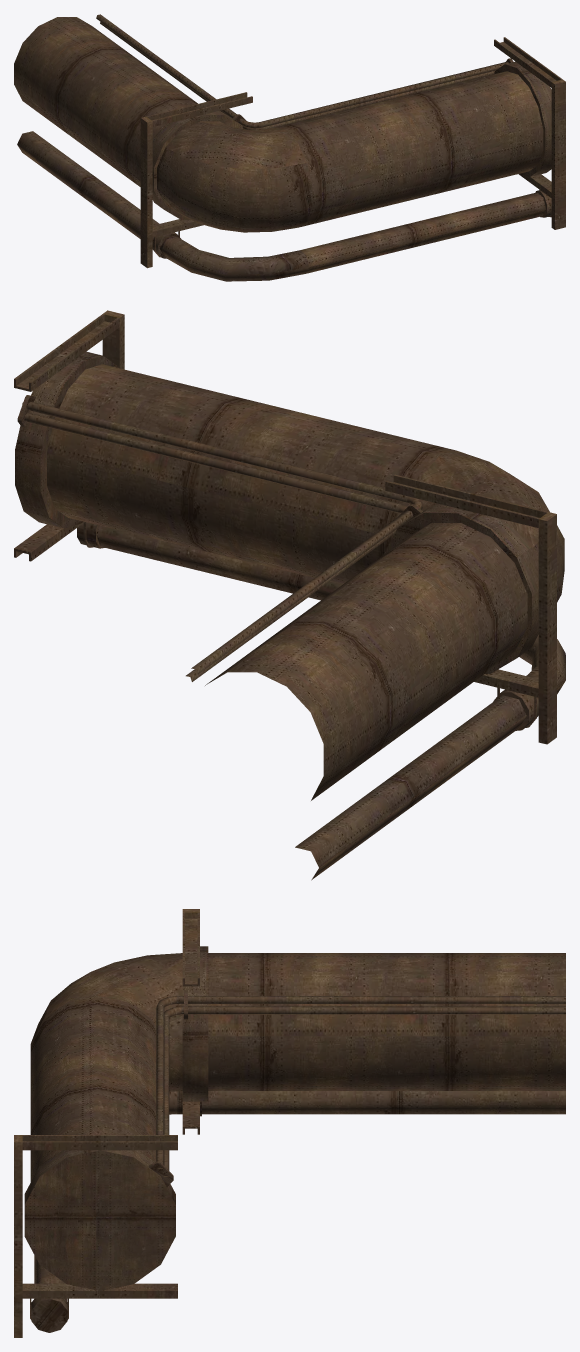
File: pipeset32d_corner128r_001a.glb
3 renders of one model, top to bottom at view 1: azimuth 30°, elevation 25°; view 2: azimuth 150°, elevation 25°; view 3: azimuth 270°, elevation 25°, orthographic. The views are drawn at different scales.
Visible parts, largest first — view 1: 0_pipeset_metal; view 2: 0_pipeset_metal; view 3: 0_pipeset_metal.
Boxes of the visible parts, box(x1,y1,x2,y2) form: 0_pipeset_metal: box(14, 14, 565, 281); 0_pipeset_metal: box(14, 310, 565, 880); 0_pipeset_metal: box(14, 909, 565, 1337).
Bounding box in the file's own units: 3.25 × 1.27 × 3.25.
Materials: 1 (1 with a texture image).
